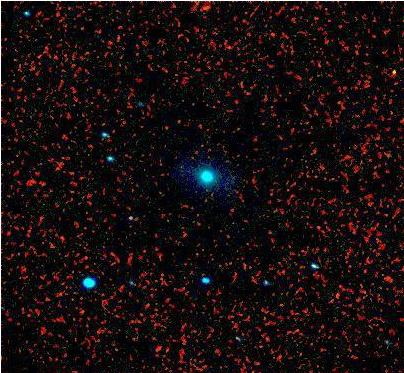star: (379, 60, 404, 90)
